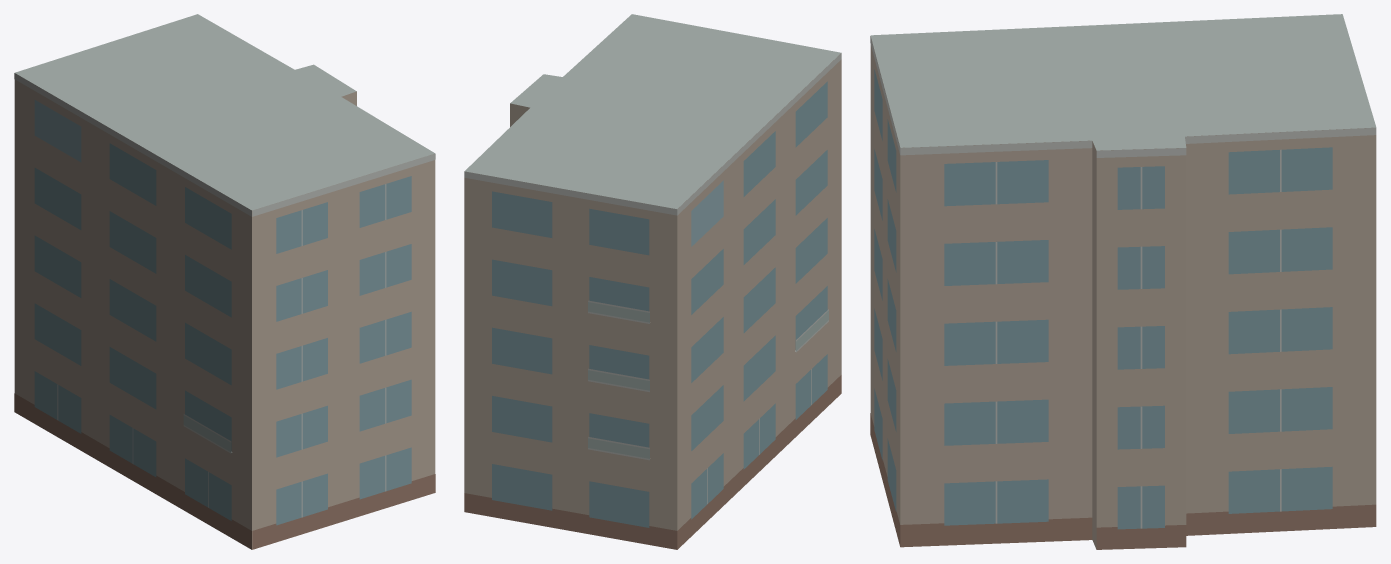
File: survey-upis-32626105.glb
The picture shows the model from 3 angles, left to right: view 1: azimuth 30°, elevation 25°; view 2: azimuth 150°, elevation 25°; view 3: azimuth 270°, elevation 25°; orthographic projection. The views are drawn at different scales.
Parts seen in each view (by area): view 1: survey-upis-32626105.tmp; view 2: survey-upis-32626105.tmp; view 3: survey-upis-32626105.tmp.
Part boxes in pixels (x1=…): survey-upis-32626105.tmp: x1=14, y1=14, x2=435, y2=549; survey-upis-32626105.tmp: x1=464, y1=14, x2=841, y2=549; survey-upis-32626105.tmp: x1=870, y1=14, x2=1376, y2=549.
Size of the model in its own units: 9.54 by 13 by 14.94.
